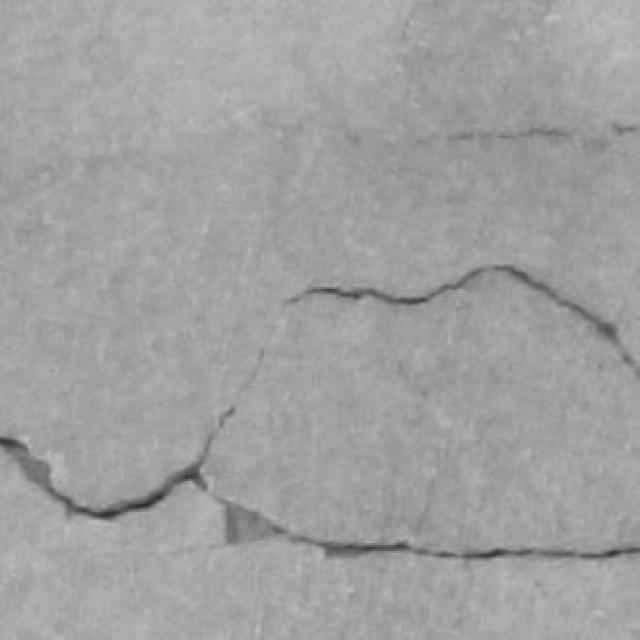crack: (0, 348, 265, 519), (286, 264, 639, 378), (214, 497, 639, 560), (0, 408, 234, 519), (0, 437, 211, 519), (417, 127, 585, 145), (447, 127, 575, 141)
